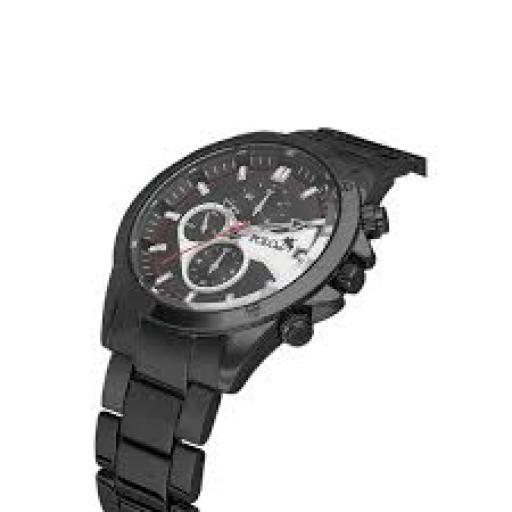KolSaati: (65, 111, 448, 512)
